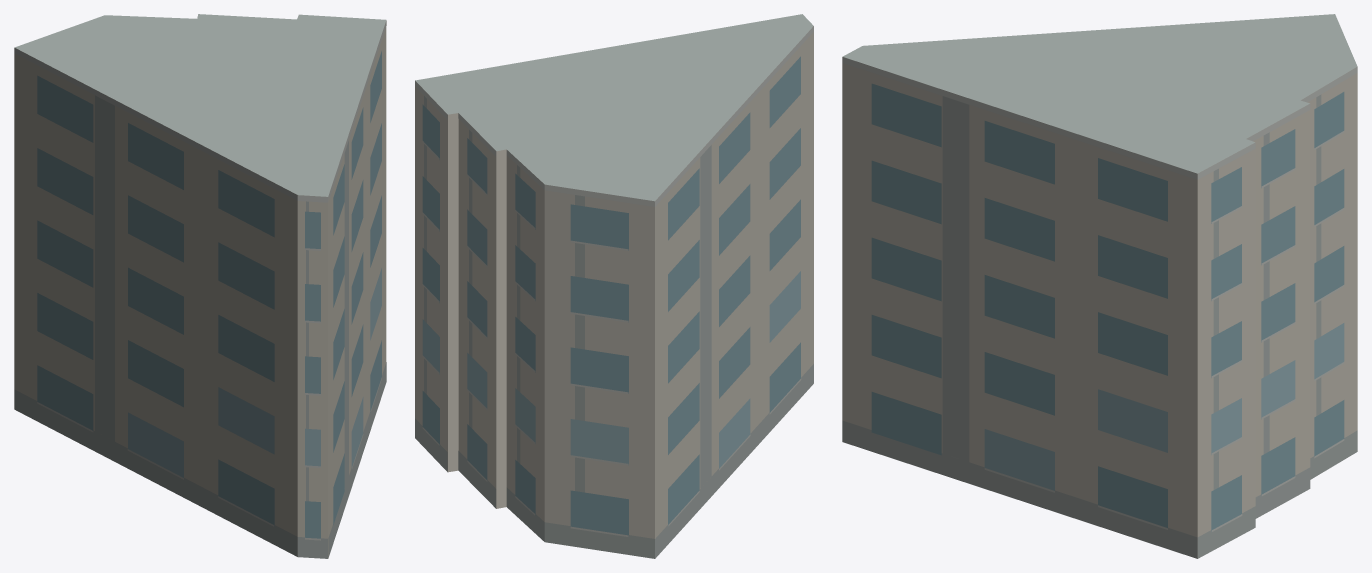
The model's file is survey-upis-32633269.glb.
3 renders of one model, left to right at view 1: azimuth 30°, elevation 25°; view 2: azimuth 150°, elevation 25°; view 3: azimuth 270°, elevation 25°, orthographic. The views are drawn at different scales.
Visible parts, largest first — view 1: survey-upis-32633269.tmp; view 2: survey-upis-32633269.tmp; view 3: survey-upis-32633269.tmp.
Boxes of the visible parts, box(x1,y1,x2,y2) form: survey-upis-32633269.tmp: box(14, 14, 386, 558); survey-upis-32633269.tmp: box(415, 14, 813, 558); survey-upis-32633269.tmp: box(842, 14, 1357, 558).
Bounding box in the file's own units: 13.39 × 15.05 × 18.25.
